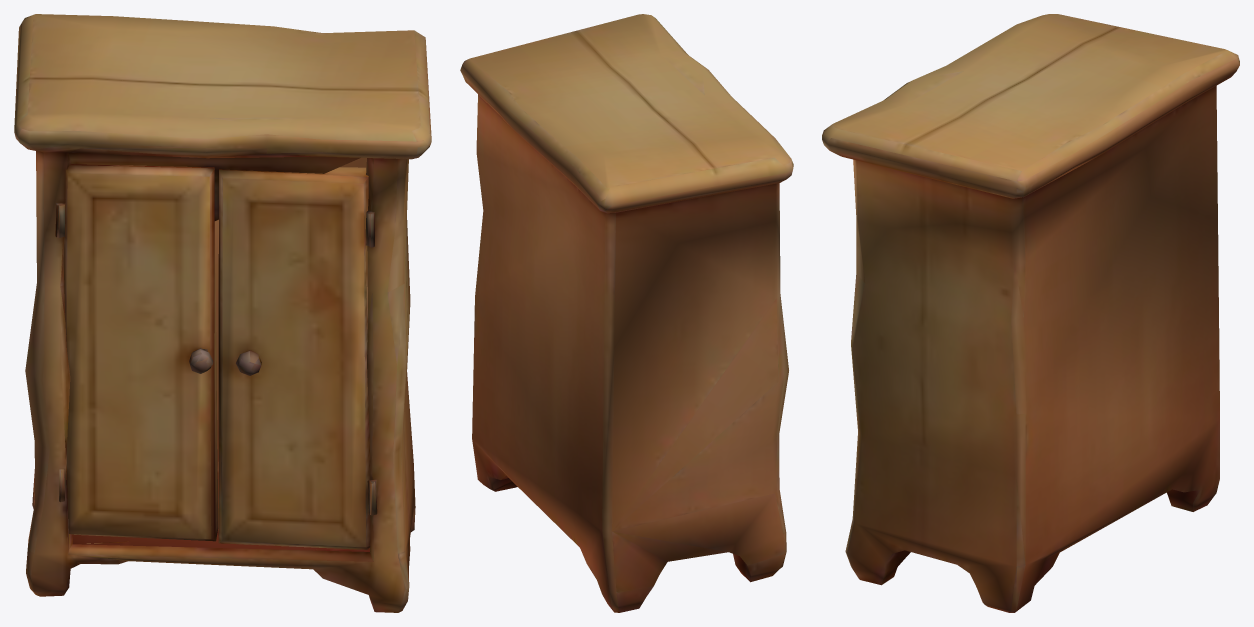
Rendered from wyn_furn_rustic_wardrobe.glb.
3 renders of one model, left to right at view 1: azimuth 30°, elevation 25°; view 2: azimuth 150°, elevation 25°; view 3: azimuth 270°, elevation 25°, orthographic. The views are drawn at different scales.
Parts seen in each view (by area): view 1: tripo_node_3b21097f-851b-4924-8641-ce4cd9a3f6b4; view 2: tripo_node_3b21097f-851b-4924-8641-ce4cd9a3f6b4; view 3: tripo_node_3b21097f-851b-4924-8641-ce4cd9a3f6b4.
Part boxes in pixels (x1,y1,x2,y2): tripo_node_3b21097f-851b-4924-8641-ce4cd9a3f6b4: (14, 14, 431, 612); tripo_node_3b21097f-851b-4924-8641-ce4cd9a3f6b4: (460, 14, 793, 612); tripo_node_3b21097f-851b-4924-8641-ce4cd9a3f6b4: (822, 14, 1239, 612).
Bounding box in the file's own units: 1.66 × 2 × 1.66.
1 material, 1 textured.
